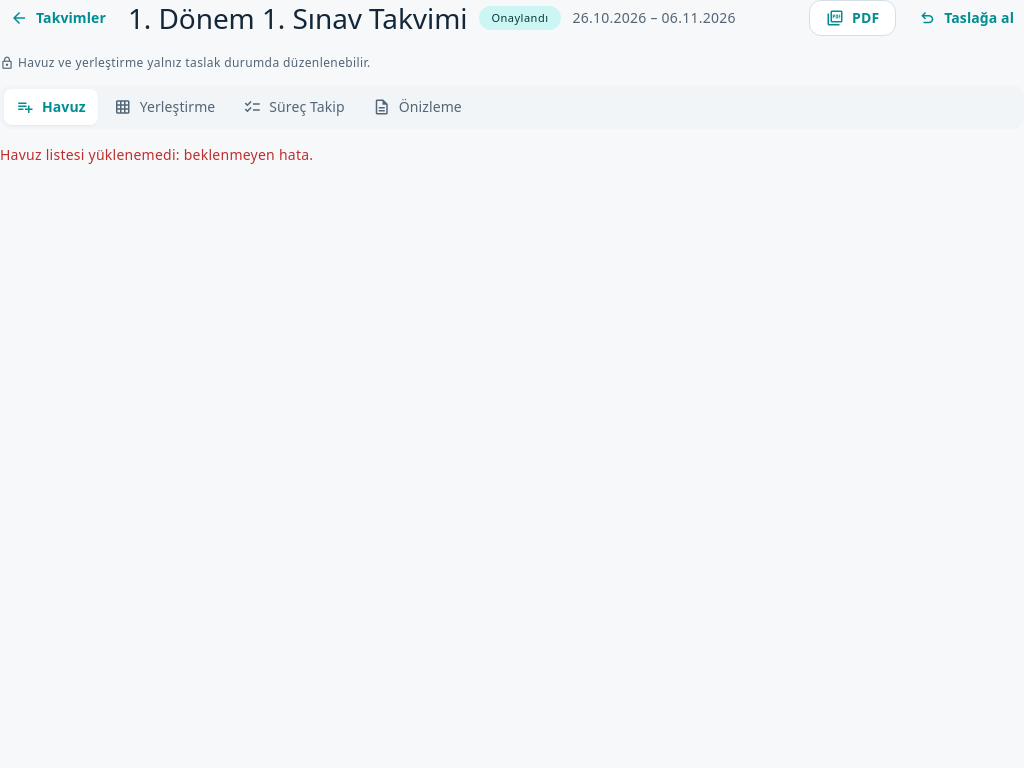
TakvimDetayPage — onay akışı › onaylı takvimi taslağa almak onay diyaloğundan geçer (onay düşer)
# Onaylı takvimde yeniden "Onayla" sunulmaz.
Step 1. Click the button "Taslağa al" → {"x": 966, "y": 18}, box top-left (908, 0), bottom-right (1023, 36)
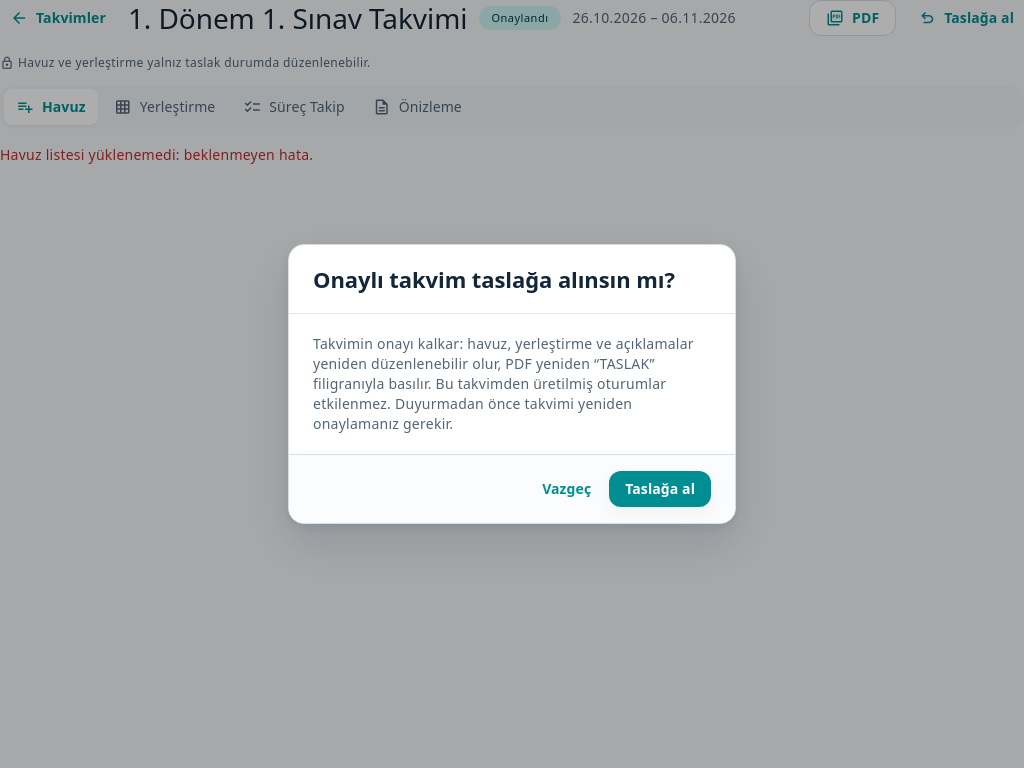
Result: the text "oturumlar etkilenmez" is shown at top-left (313, 334), bottom-right (694, 433)
# Vazgeçilirse hiçbir şey olmaz.
Step 2. Click the button "Vazgeç" → {"x": 567, "y": 489}, box top-left (532, 471), bottom-right (601, 507)
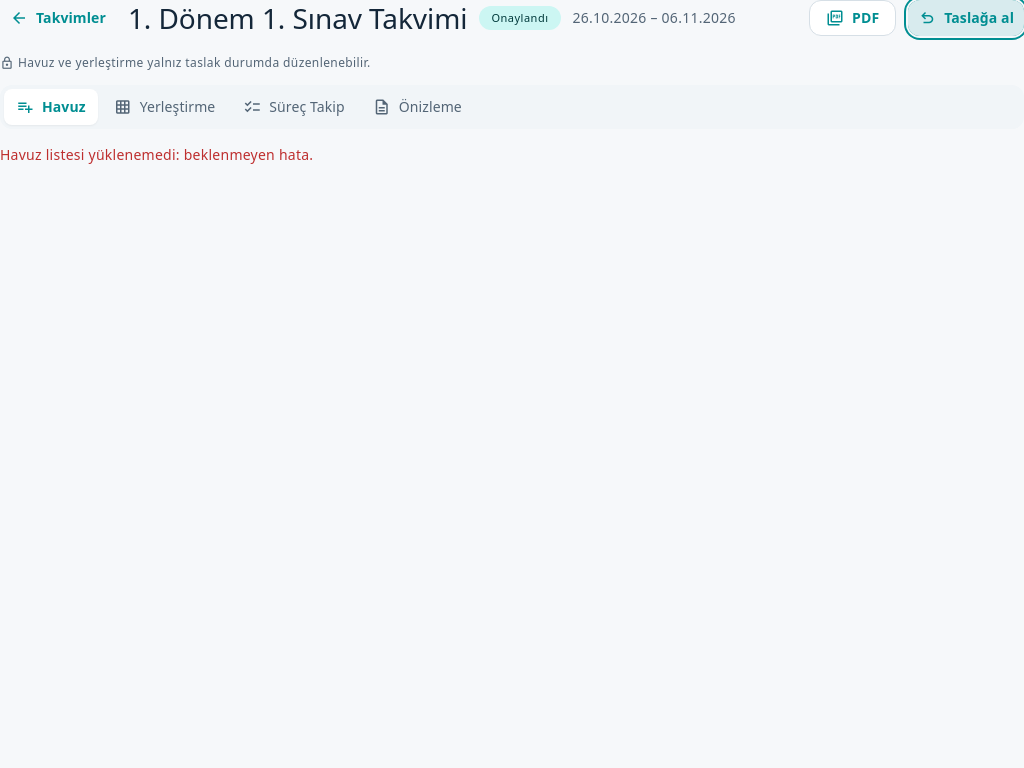
Step 3. Click the button "Taslağa al" → {"x": 966, "y": 18}, box top-left (908, 0), bottom-right (1023, 36)
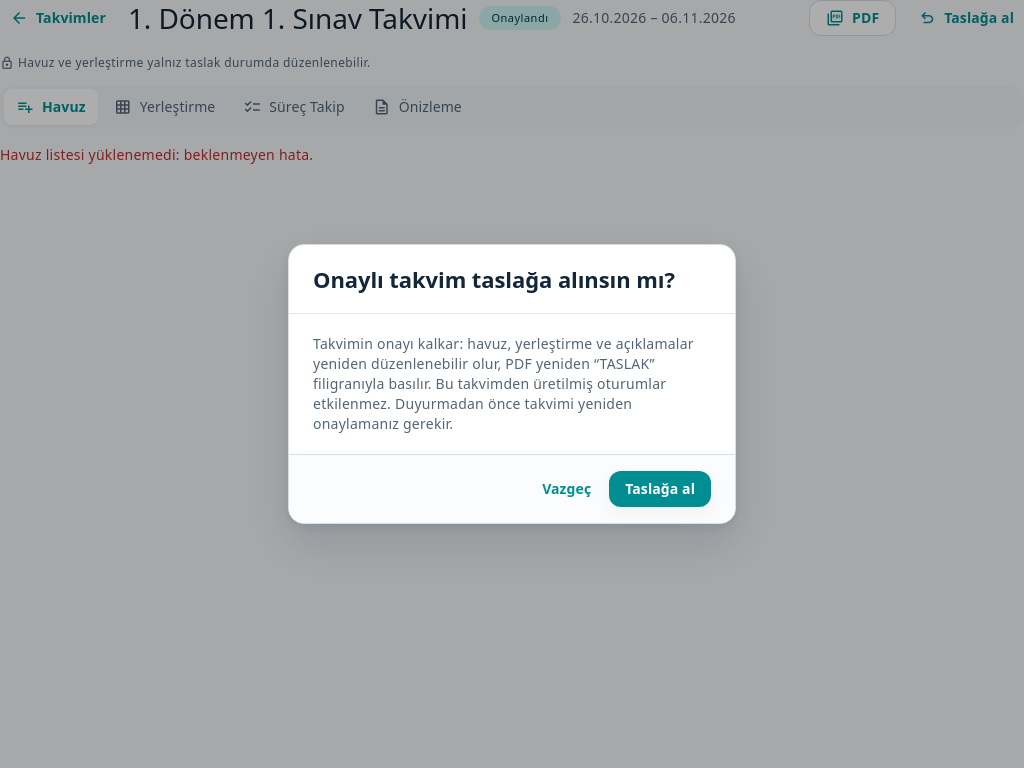
Step 4. Click the button "Taslağa al" → {"x": 660, "y": 489}, box top-left (609, 471), bottom-right (711, 507)
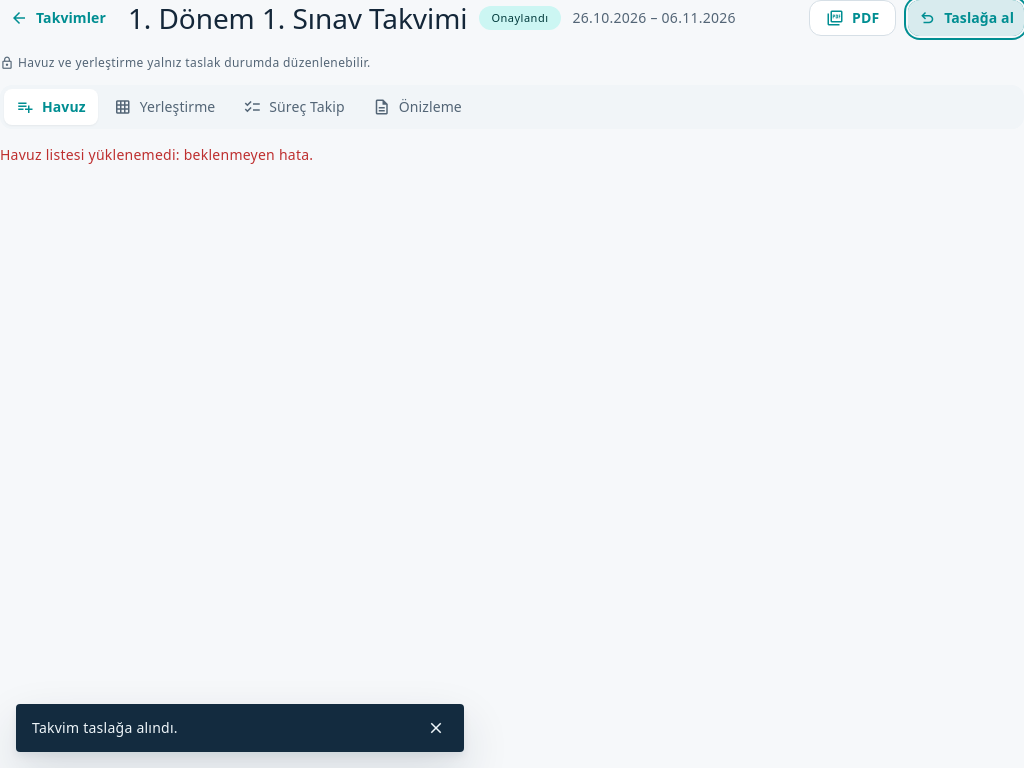
Result: the text "Takvim taslağa alındı." is shown at top-left (32, 718), bottom-right (178, 737)
